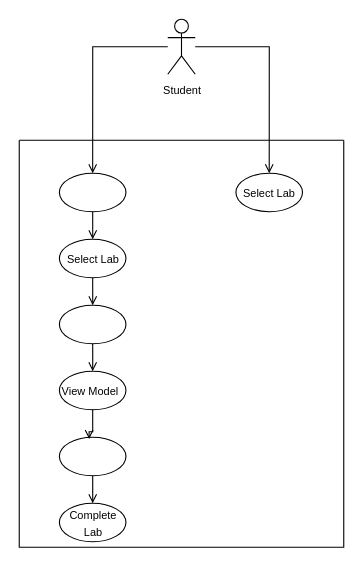
This 363x567 diagram has some shape labels left out. The shapes that lost their labels are listed below. From the top down, each one's centre as x and y in pixels, then its label:
At [92,192]: "Launch AR lab".
At [92,324]: "Scan Environment".
At [92,456]: "Interact with Model".
